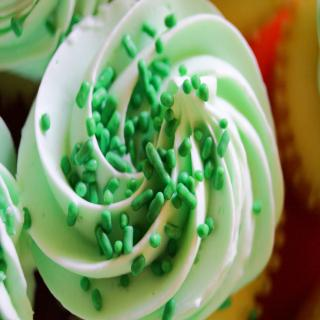Muffin: (16, 0, 285, 320), (0, 0, 109, 88), (0, 115, 39, 320)
